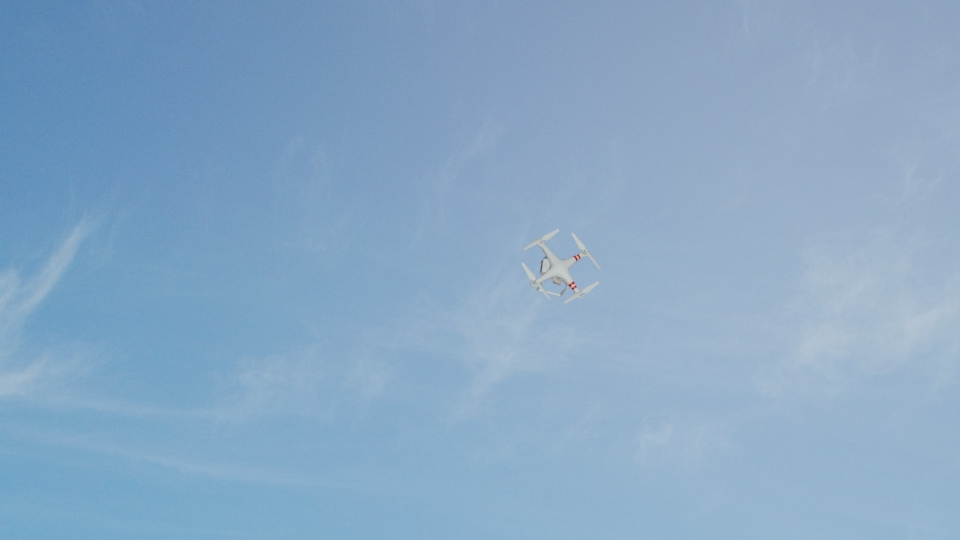drone: (522, 229, 602, 299)
